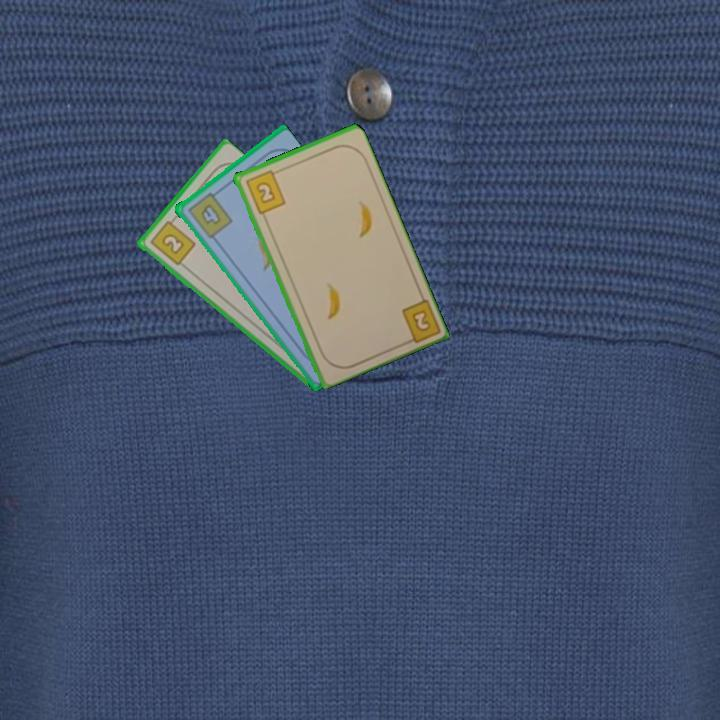2b: (146, 214, 198, 268), (242, 166, 288, 217), (398, 294, 441, 348)
4b: (183, 187, 235, 241)
